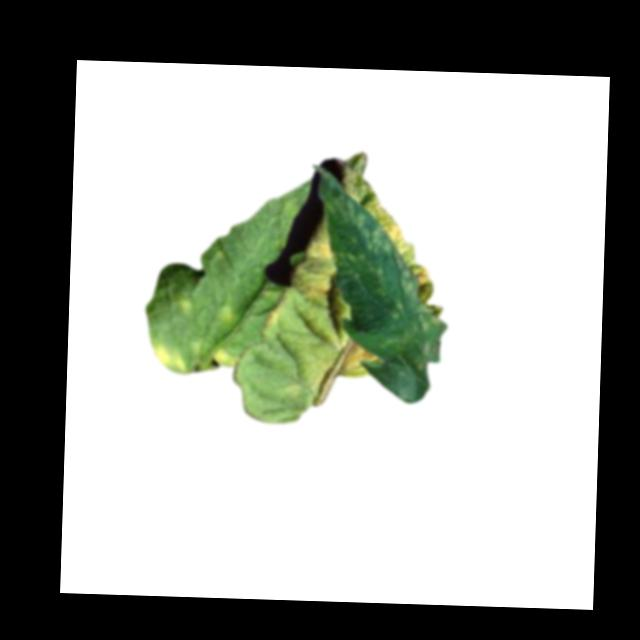Leaf_Mold: (361, 189, 437, 306), (291, 224, 336, 307), (332, 334, 382, 377), (258, 289, 288, 338), (152, 336, 189, 373), (208, 342, 239, 368), (214, 300, 243, 324)
